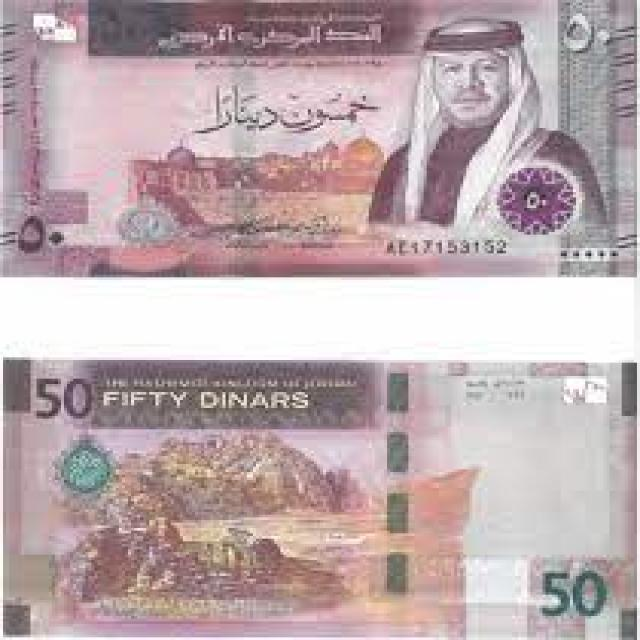50-dinar: (0, 358, 640, 639), (0, 0, 640, 275)
